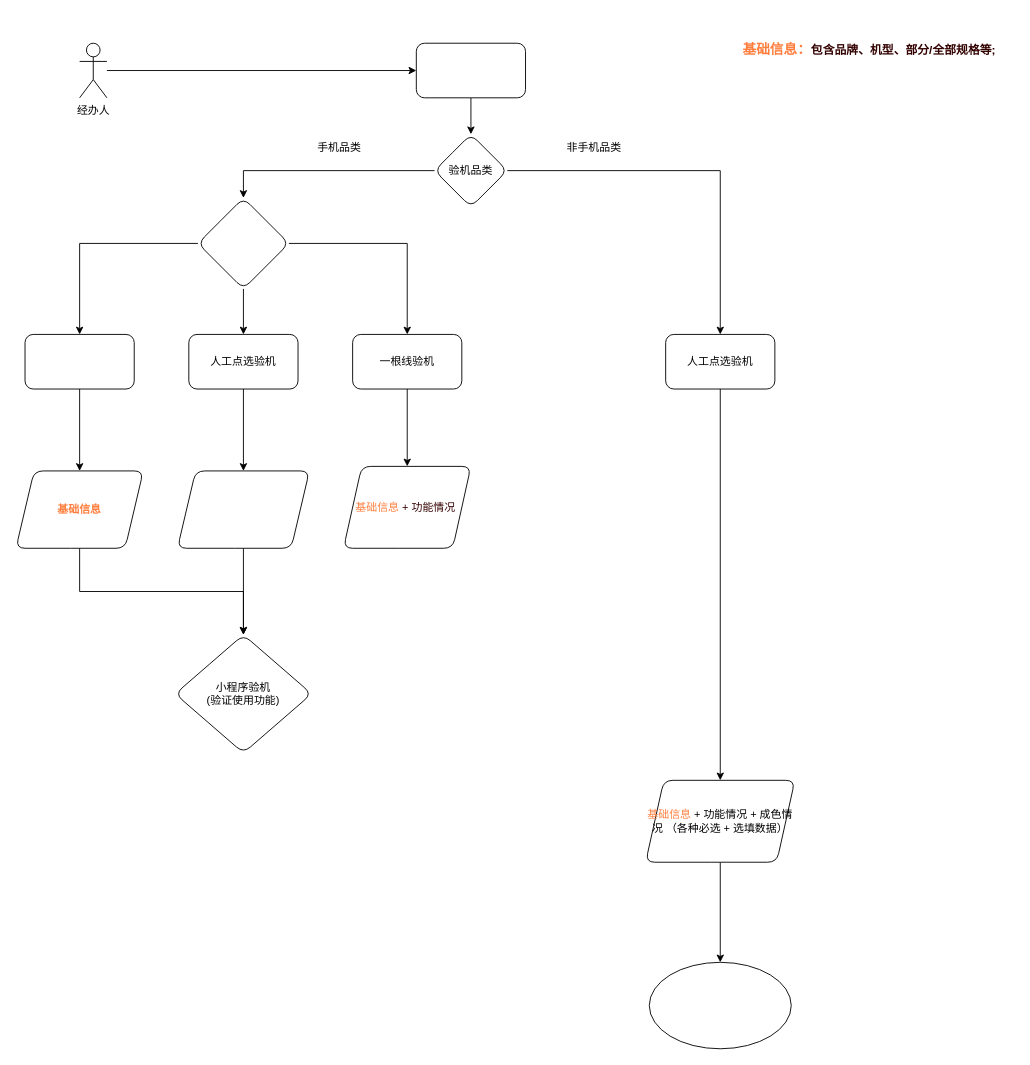
Some shapes in this 1030 by 1065 pixel diagram are drawn without their labels. Each missing label, with the centre of its shape:
"IMEI验机" goes at point 79,361.
"基础信息 + 成色情况" goes at point 243,509.
"完成最终报告数据，用于后续流程" goes at point 719,1005.
"操作验机（质检）" goes at point 470,70.
"验机方式选择" goes at point 243,243.
